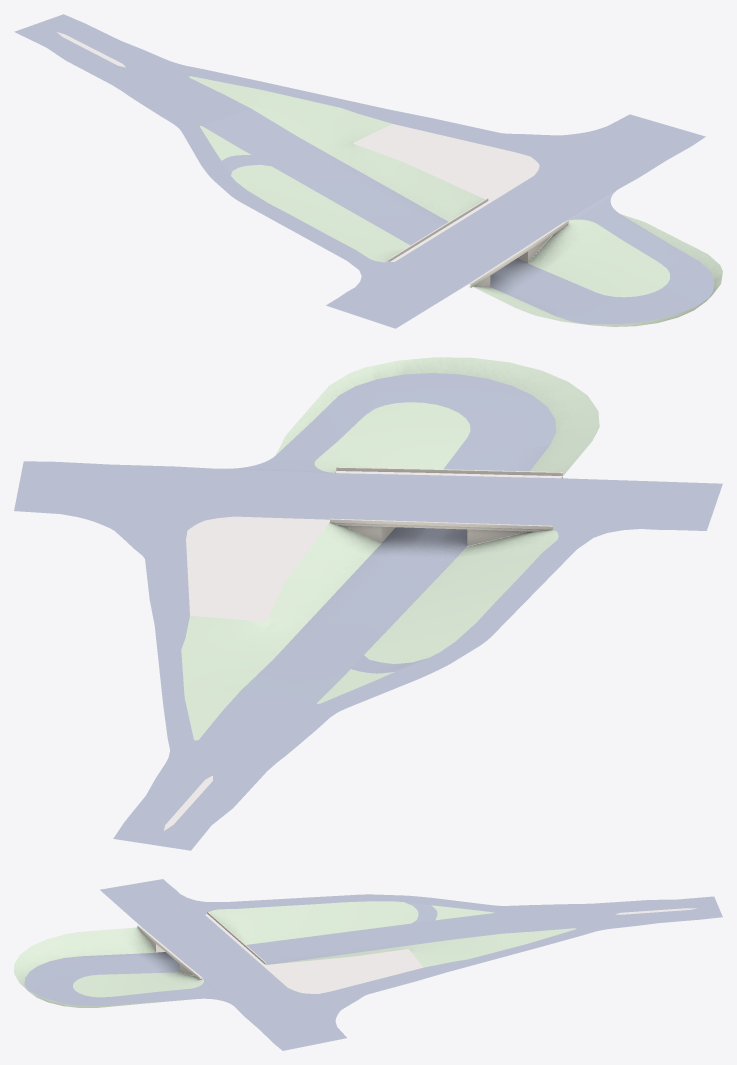
The model's file is Bokeikhanov-Raymbek.glb.
The picture shows the model from 3 angles, top to bottom: view 1: azimuth 30°, elevation 25°; view 2: azimuth 150°, elevation 25°; view 3: azimuth 270°, elevation 25°; orthographic projection. The views are drawn at different scales.
Visible parts, largest first — view 1: group_0, group_1.002, group_2, group_3; view 2: group_0, group_1.002, group_2, group_3; view 3: group_0, group_1.002, group_2, group_3.
Part boxes in pixels (x1=…): group_0: x1=14, y1=14, x2=714, y2=328; group_1.002: x1=189, y1=76, x2=722, y2=326; group_2: x1=57, y1=32, x2=564, y2=285; group_3: x1=388, y1=198, x2=568, y2=288; group_0: x1=14, y1=373, x2=722, y2=850; group_1.002: x1=181, y1=357, x2=599, y2=740; group_2: x1=164, y1=471, x2=562, y2=830; group_3: x1=330, y1=467, x2=563, y2=545; group_0: x1=24, y1=879, x2=722, y2=1050; group_1.002: x1=14, y1=901, x2=576, y2=1007; group_2: x1=141, y1=908, x2=697, y2=993; group_3: x1=137, y1=911, x2=266, y2=979.
Size of the model in its own units: 191 by 8 by 333.
4 materials, 3 textured.
